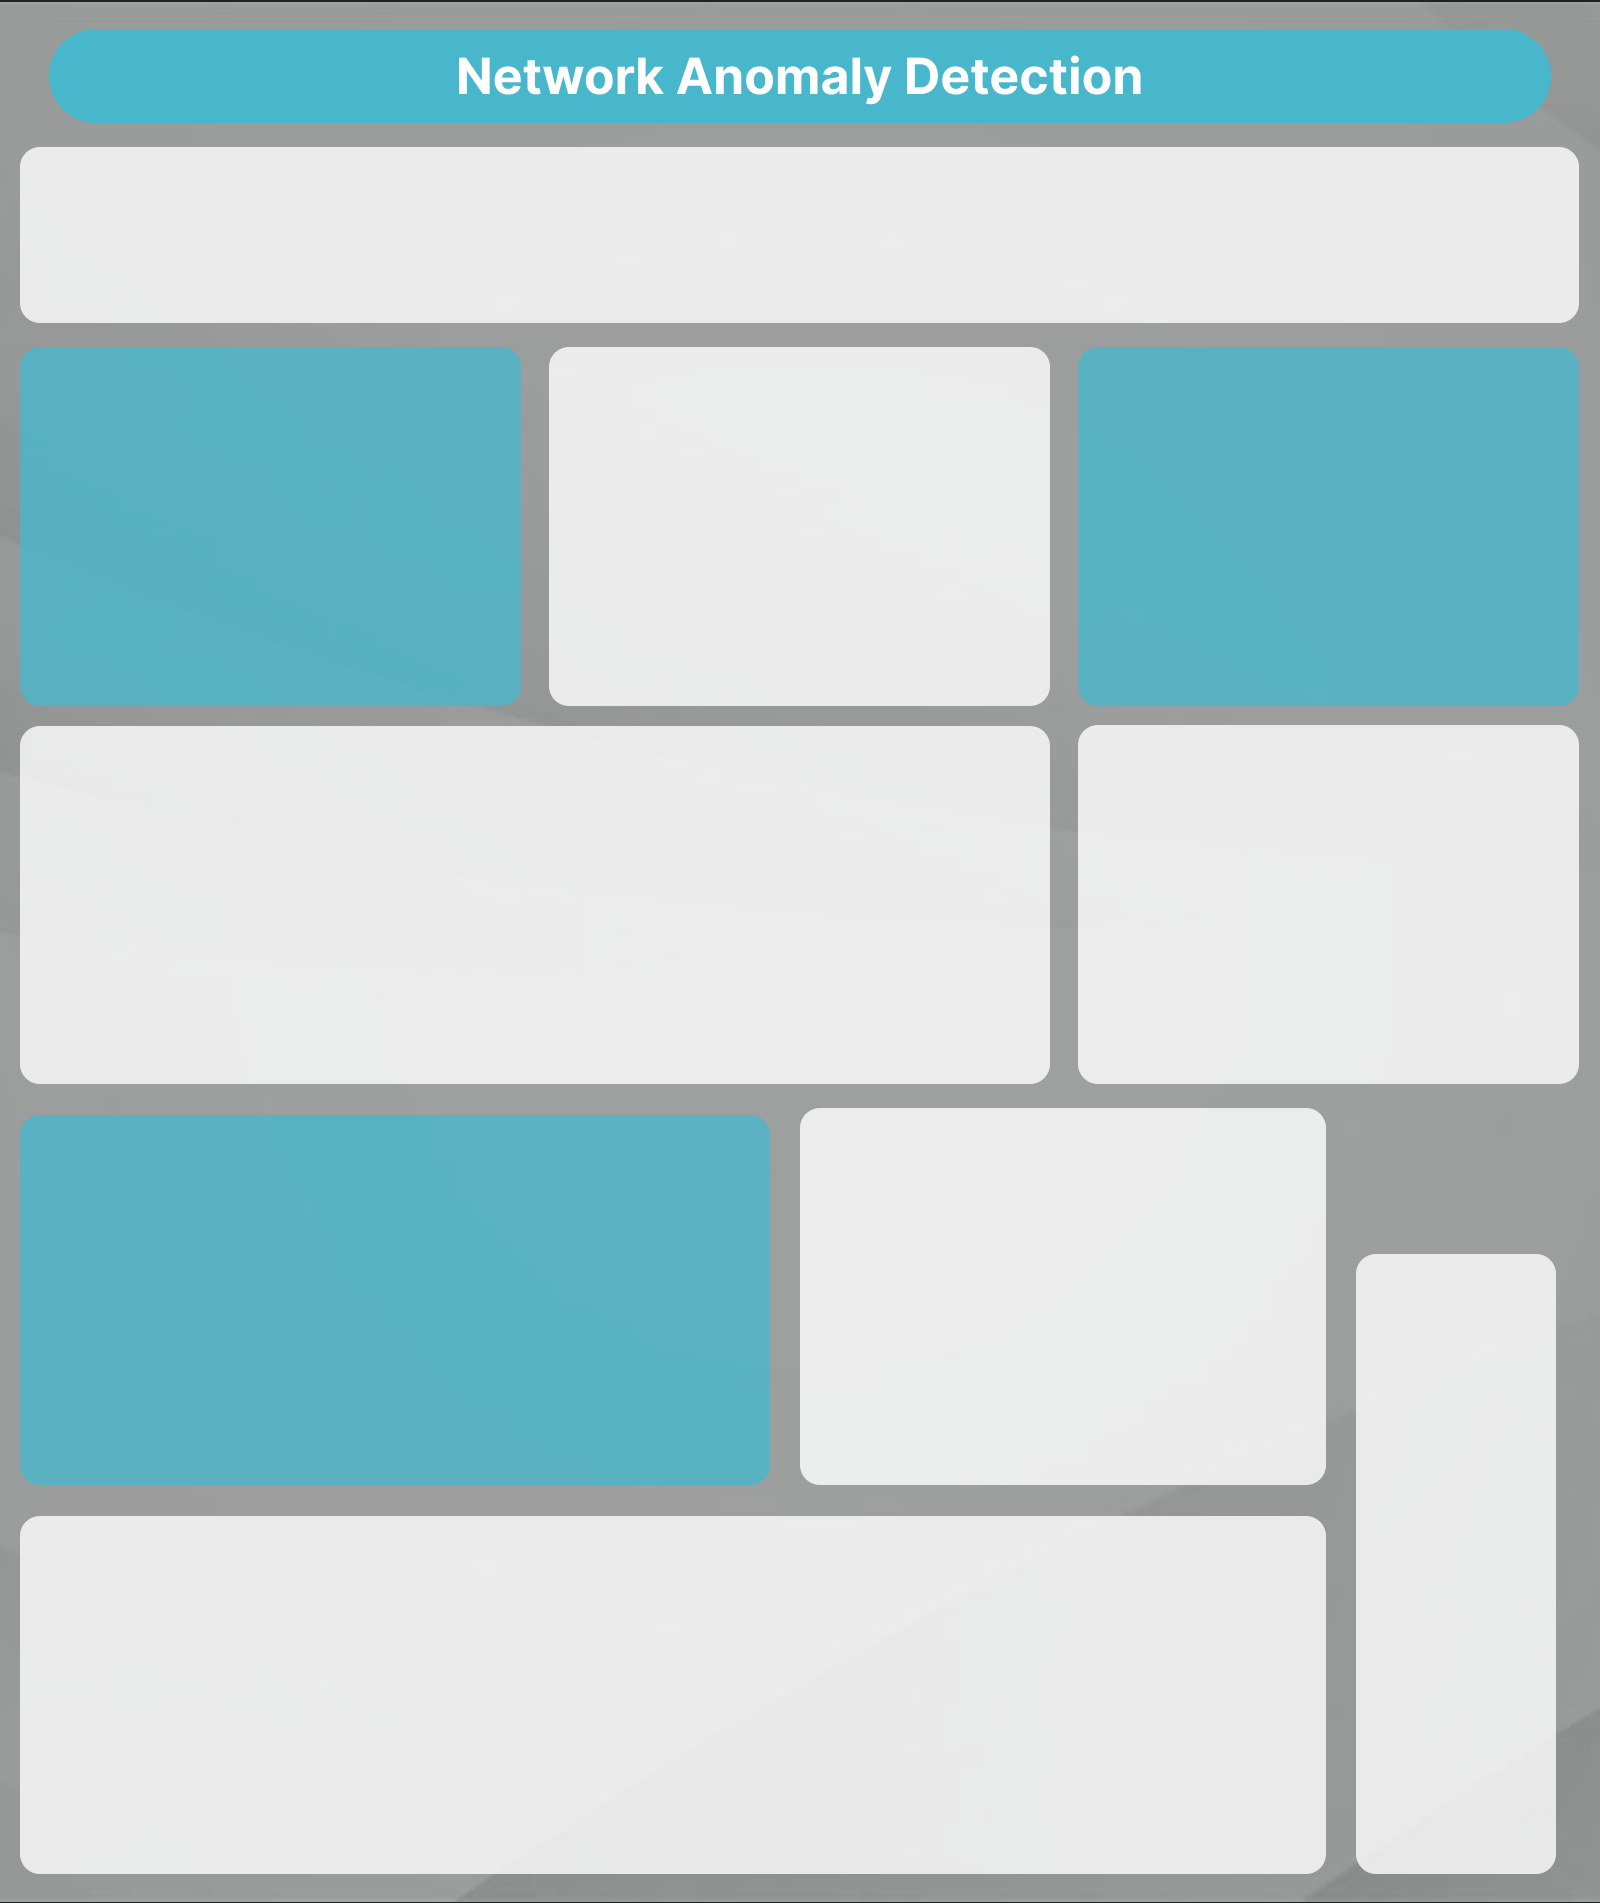

This screenshot's page, from the dashboard's own definition file:
{"tool":"tableau","page":{"name":"Dashboard 1","canvas":[1000,1000],"units":"permille","ordinal":0},"visuals":[{"type":"image","param":"Image/Network Anomaly.png","box":[5,4.2,990.1,991.6]},{"type":"filter","title":"Anomaly Detection Metrics","param":"[federated.0gkmkna1z06p3y17fou2919l0jpw].[none:attack:nk]","box":[770.9,31.1,99.1,32.6]},{"type":"image","param":"Image/connections.png","box":[34.1,104.7,58.2,53.7]},{"type":"worksheet","title":"Total Connections","mark":"Automatic","box":[92.3,104.7,105.3,53.7]},{"type":"image","param":"Image/anomaly.png","box":[210.5,104.7,63.8,53.7]},{"type":"worksheet","title":"Anomalies Detected","mark":"Automatic","box":[274.3,104.7,115.8,53.7]},{"type":"image","param":"Image/percent.png","box":[404.3,104.7,63.8,53.7]},{"type":"worksheet","title":"Anomaly Rate","mark":"Automatic","box":[468.1,104.7,89.8,53.7]},{"type":"image","param":"Image/bytes.png","box":[570.9,105.8,63.8,53.7]},{"type":"worksheet","title":"Average Source Bytes","mark":"Automatic","box":[634.7,105.8,126.9,53.7]},{"type":"image","param":"Image/loginfail.png","box":[779.6,105.8,63.8,53.7]},{"type":"worksheet","title":"Failed Login Attempts","mark":"Automatic","box":[843.3,105.8,78.6,53.7]},{"type":"worksheet","title":"Attack Type Distribution","mark":"Pie","rows":["Calculation_1101130117015195649","Calculation_1101130117015236611"],"box":[5,187.9,314.6,190]},{"type":"worksheet","title":"Outlier Detection","mark":"Automatic","rows":["dsthostsrvcount"],"cols":["dsthostcount"],"box":[348,189.5,291.6,183.2]},{"type":"worksheet","title":"Protocol Type Vs Attack Type","mark":"Automatic","rows":["service"],"cols":["protocoltype"],"box":[673.7,190,296,186.3]},{"type":"worksheet","title":"Anomaly Detection Metrics","mark":"Line","rows":["numfailedlogins","urgent","wrongfragment"],"cols":["attack"],"box":[19.8,388.4,601.9,183.7]},{"type":"worksheet","title":"Attack Vs Flag","mark":"Automatic","rows":["flag"],"cols":["attack"],"box":[676.8,390.5,292.3,185.8]},{"type":"worksheet","title":"SRC Bytes vs Duration","mark":"Automatic","rows":["duration"],"cols":["srcbytes"],"box":[506.5,590.5,297.2,192.1]},{"type":"worksheet","title":"Latest Alerts and Anomalies Log","mark":"Automatic","rows":["duration","srcbytes","dstbytes","protocoltype","service","flag"],"box":[27.2,594.7,434.1,190.5]},{"type":"legend","title":"SRC Bytes vs Duration","param":"[federated.0gkmkna1z06p3y17fou2919l0jpw].[none:attack:nk]","box":[834.1,672.1,109.6,321.6]},{"type":"worksheet","title":"Attack vs Traffic","mark":"Line","rows":["dstbytes","srcbytes"],"cols":["attack"],"box":[24.8,806.3,754.8,180.5]}]}

Visuals, with their boxes on the dashboard's canvas, which has no fixed pixel size, in thousandths of its width and height (x1, y1, x2, y2). These are canvas units, not pixel positions in the 1600x1903 screenshot, which may show the page scaled, cropped or inside an application window:
image: 5:4:995:996
"Anomaly Detection Metrics" filter: 771:31:870:64
image: 34:105:92:158
"Total Connections" worksheet: 92:105:198:158
image: 210:105:274:158
"Anomalies Detected" worksheet: 274:105:390:158
image: 404:105:468:158
"Anomaly Rate" worksheet: 468:105:558:158
image: 571:106:635:160
"Average Source Bytes" worksheet: 635:106:762:160
image: 780:106:843:160
"Failed Login Attempts" worksheet: 843:106:922:160
"Attack Type Distribution" worksheet (Pie marks): 5:188:320:378
"Outlier Detection" worksheet: 348:190:640:373
"Protocol Type Vs Attack Type" worksheet: 674:190:970:376
"Anomaly Detection Metrics" worksheet (Line marks): 20:388:622:572
"Attack Vs Flag" worksheet: 677:390:969:576
"SRC Bytes vs Duration" worksheet: 506:590:804:783
"Latest Alerts and Anomalies Log" worksheet: 27:595:461:785
"SRC Bytes vs Duration" legend: 834:672:944:994
"Attack vs Traffic" worksheet (Line marks): 25:806:780:987
